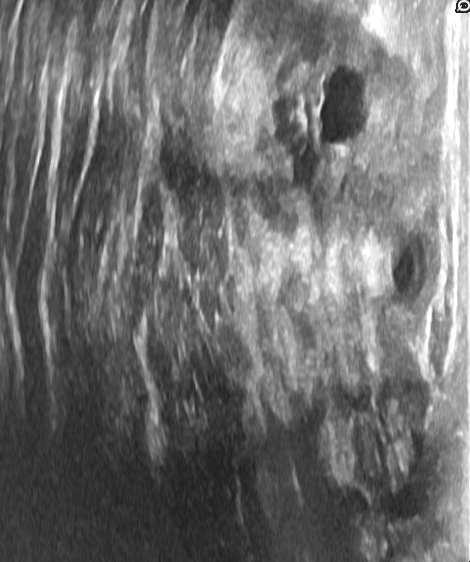Benign: (312, 68, 373, 149)
